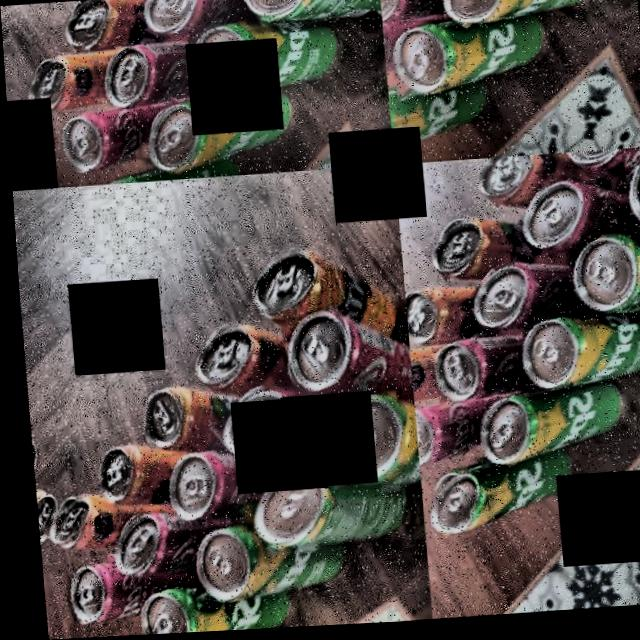Cans: (242, 466, 414, 571), (129, 84, 298, 182), (371, 18, 557, 105), (261, 294, 404, 407), (233, 247, 390, 346), (154, 523, 344, 603), (451, 389, 640, 468), (416, 458, 593, 529), (516, 229, 640, 330), (503, 324, 640, 411), (181, 319, 310, 408), (85, 33, 225, 115), (95, 511, 257, 581), (405, 339, 554, 410), (370, 80, 503, 155), (414, 218, 549, 291), (51, 558, 200, 624), (119, 583, 301, 636), (449, 264, 563, 347), (74, 441, 223, 504), (29, 487, 172, 552), (7, 45, 121, 124), (468, 151, 595, 220), (37, 97, 157, 169), (385, 398, 488, 470), (131, 384, 231, 458), (143, 444, 233, 526), (383, 273, 474, 349), (498, 195, 600, 262), (41, 0, 152, 56), (426, 0, 609, 33), (223, 0, 379, 37), (122, 0, 235, 43)
